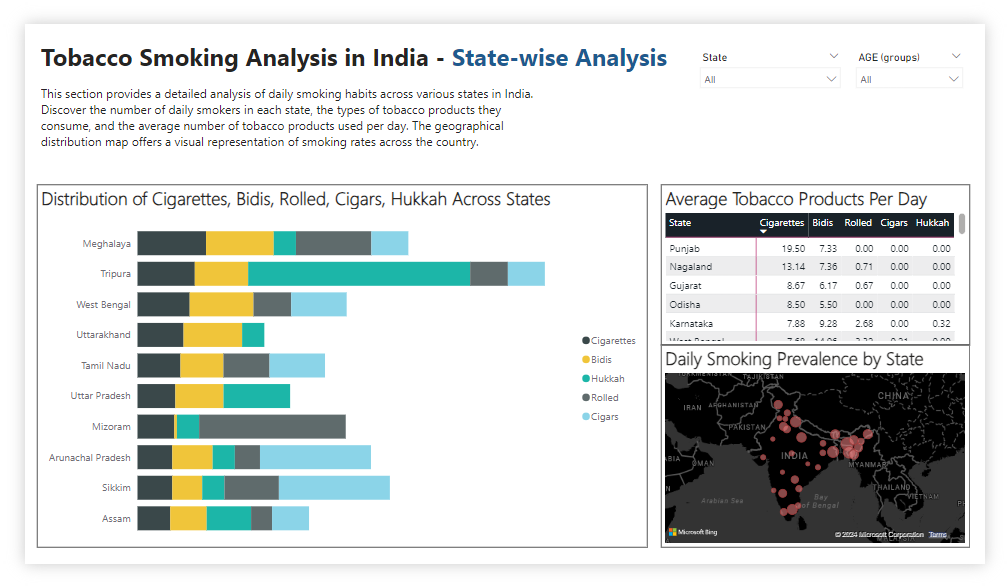

The page's visual inventory and layout, read from the dashboard file:
{"tool":"powerbi","page":{"name":"State and Product Analysis","canvas":[1280,720],"ordinal":2},"visuals":[{"type":"textbox","box":[16,16,920,60],"z":0},{"type":"slicer","fields":{"Values":["GATS 2016.State"]},"box":[890,30,207.5,90],"z":1000},{"type":"textbox","box":[16,76,688,98],"z":2000},{"type":"barChart","title":"Distribution of Cigarettes, Bidis, Rolled, Cigars, Hukkah Across States","fields":{"Category":["GATS 2016.State"],"Y":["Key Measures.No of people who smoke Cigarettes","Key Measures.No of people who smoke bidis","Key Measures.No of people who smoke hukkah","Key Measures.No of people who smoke Rolled Tobacco","Key Measures.No of people who smoke cigars, cheroots and cigarillos"]},"box":[16,214,814,484],"z":3000},{"type":"pivotTable","title":"Average Tobacco Products Per Day","fields":{"Values":["Avg(GATS 2016.Cigarettes per Day)","Avg(GATS 2016.Bidis per Day)","Avg(GATS 2016.Rolled per Day)","Avg(GATS 2016.Cigars, Cheroots or Cigarillos per Day)","Avg(GATS 2016.Hukka Sessions per Day)"],"Rows":["GATS 2016.State"]},"box":[848,214,412,214],"z":4000},{"type":"map","fields":{"Category":["GATS 2016.State"],"Size":["Key Measures.Daily Smoking Prevalence"]},"box":[848,428,412,270],"z":5000},{"type":"slicer","fields":{"Values":["GATS 2016.AGE (groups)"]},"box":[1097.5,30,162.5,90],"z":6000}]}

Visuals, with their boxes on the page's 1280x720 design canvas (x1, y1, x2, y2). These are canvas units, not pixel positions in the 1008x588 screenshot, which may show the page scaled, cropped or inside an application window:
textbox: <box>16,16,936,76</box>
slicer - GATS 2016.State: <box>890,30,1098,120</box>
textbox: <box>16,76,704,174</box>
"Distribution of Cigarettes, Bidis, Rolled, Cigars, Hukkah Across States" barChart: <box>16,214,830,698</box>
"Average Tobacco Products Per Day" pivotTable: <box>848,214,1260,428</box>
map - GATS 2016.State x Key Measures.Daily Smoking Prevalence: <box>848,428,1260,698</box>
slicer - GATS 2016.AGE (groups): <box>1098,30,1260,120</box>
